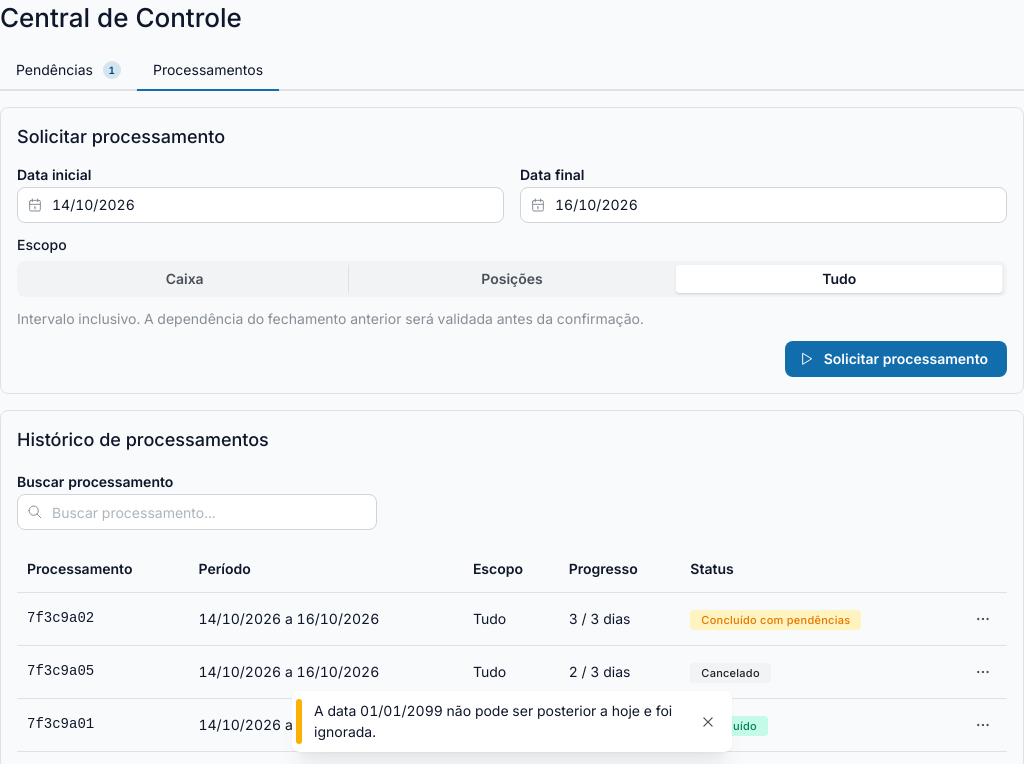
Test case: Processamentos: request (§11.1, OQ-20) › OQ-11 previews a range starting on the first entry as starting from the zero state
Click the button "Solicitar processamento". click: (896, 359)
box: [785, 341, 1007, 377]
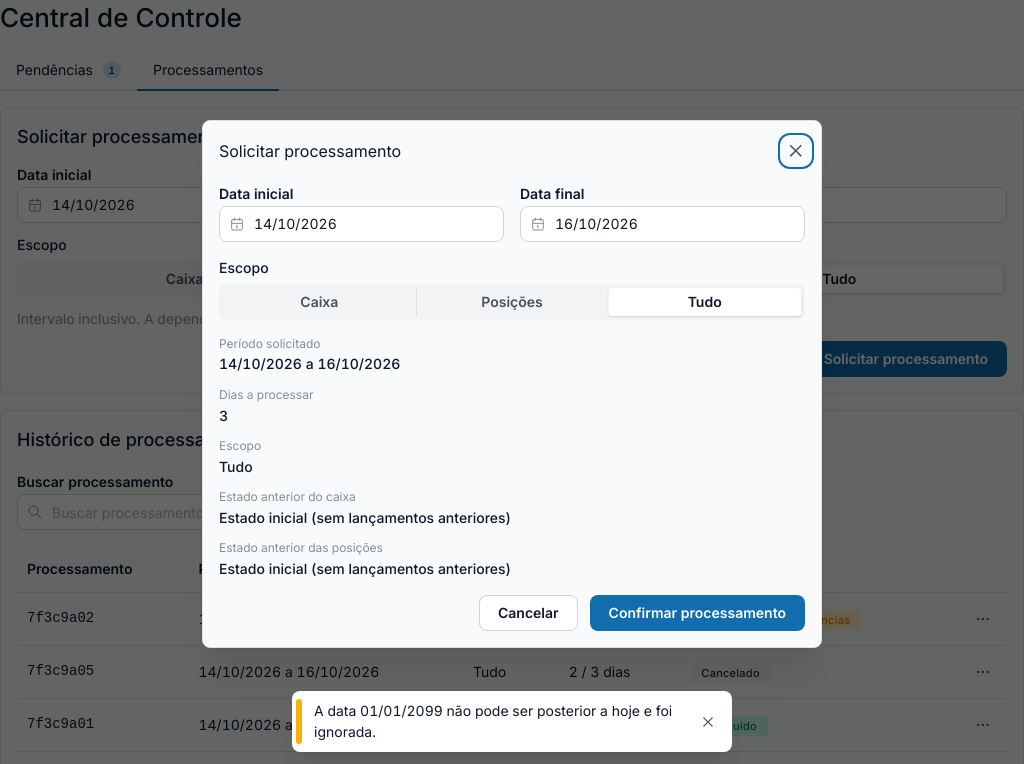
Now the text "14/10/2026 a 16/10/2026" is shown, box [219, 356, 400, 372]
Now the text "3" is shown, box [219, 406, 228, 424]
Now the text "Tudo" below "Dias a processar" is shown, box [219, 458, 253, 475]
